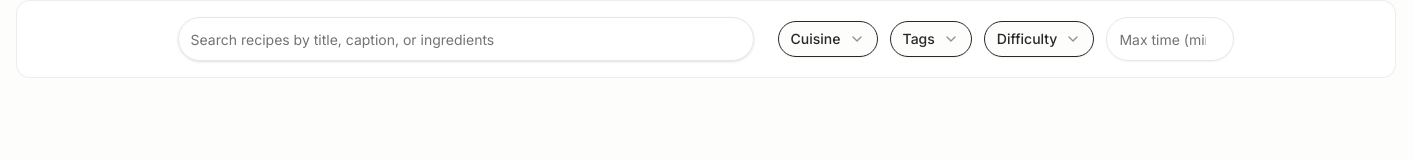
FilterBar › clear filters › should show clear button when search query exists
Type "pasta" into the search field with test id "search-input" at (466, 39), box [178,17,754,61]
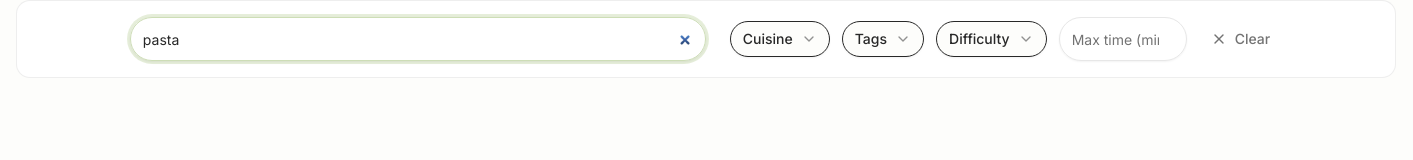
Expected: the button with test id "clear-filters-button" is shown, [1199,21,1282,57]
